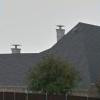Chimney: (50, 16, 71, 43)
